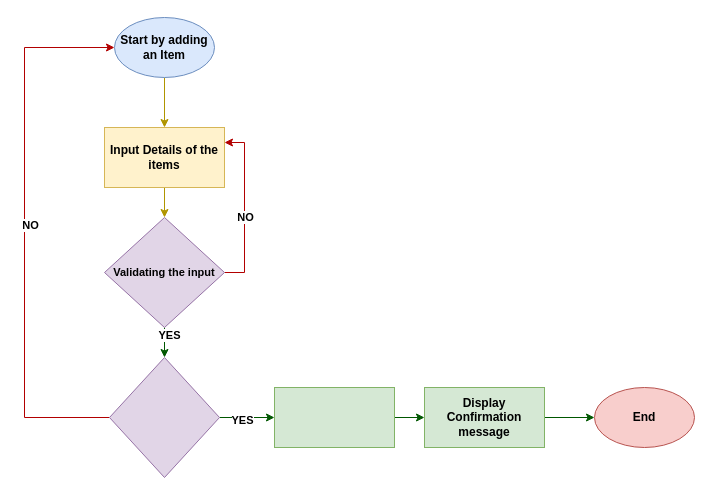
The diagram is 712 pixels wide and 495 high, and some of its shapes have lost their labels. Here are the shapes that lost their labels. From the top down, the centre of each, then its label:
At pixel 164 417: "Checking duplicate items".
At pixel 334 417: "Add items to Inventory".
